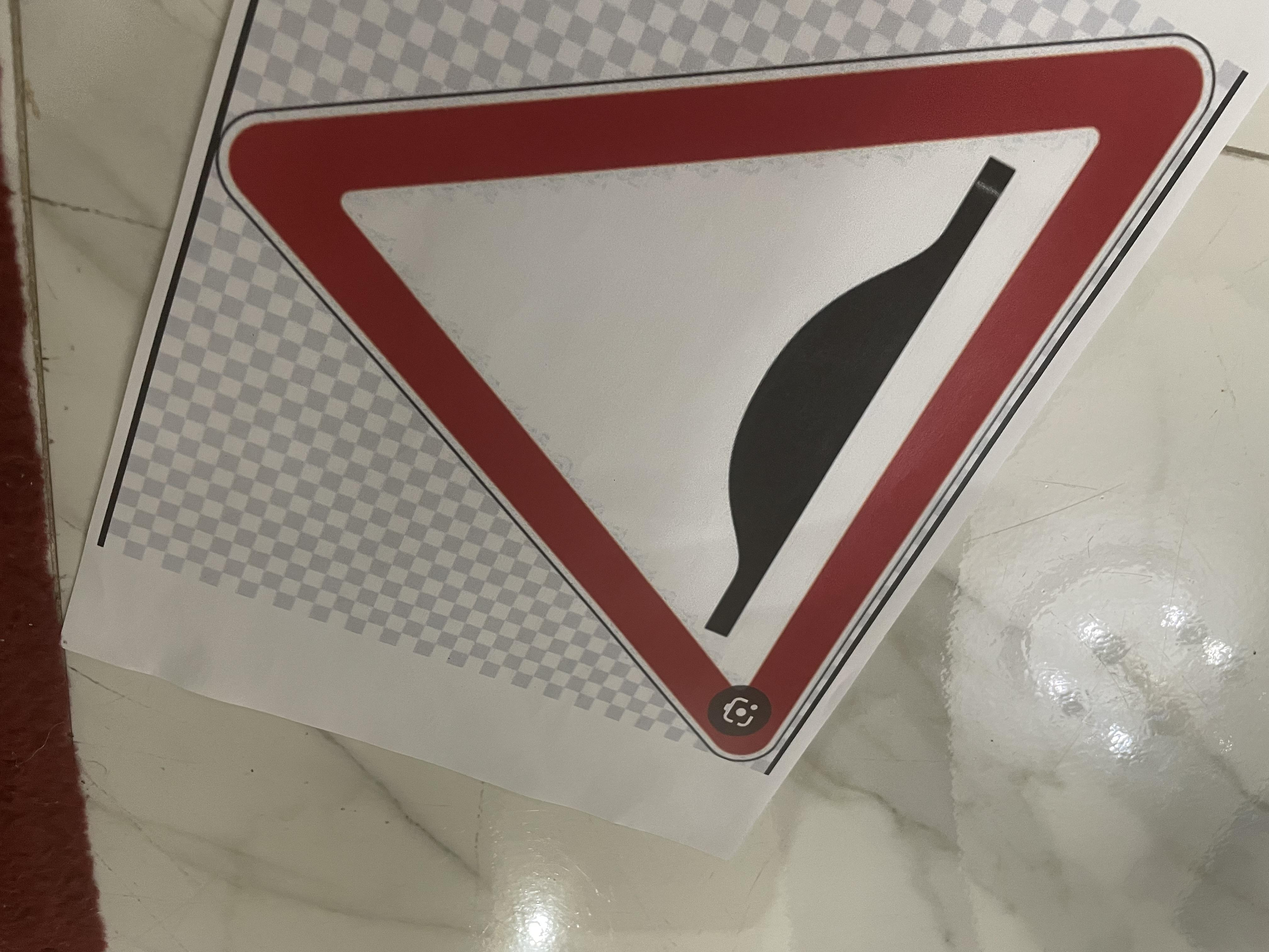Hump: (234, 145, 1230, 923)
